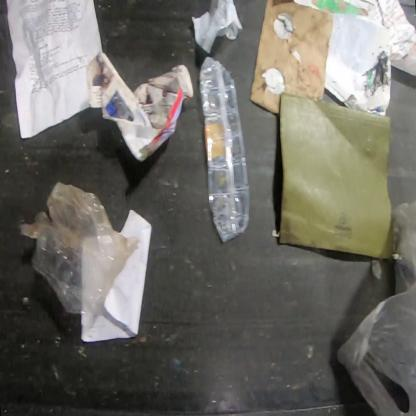cardboard: (277, 92, 391, 260), (248, 0, 334, 116)
rigid_plastic: (198, 56, 251, 243)
soft_plastic: (19, 183, 140, 329), (336, 200, 415, 415)
